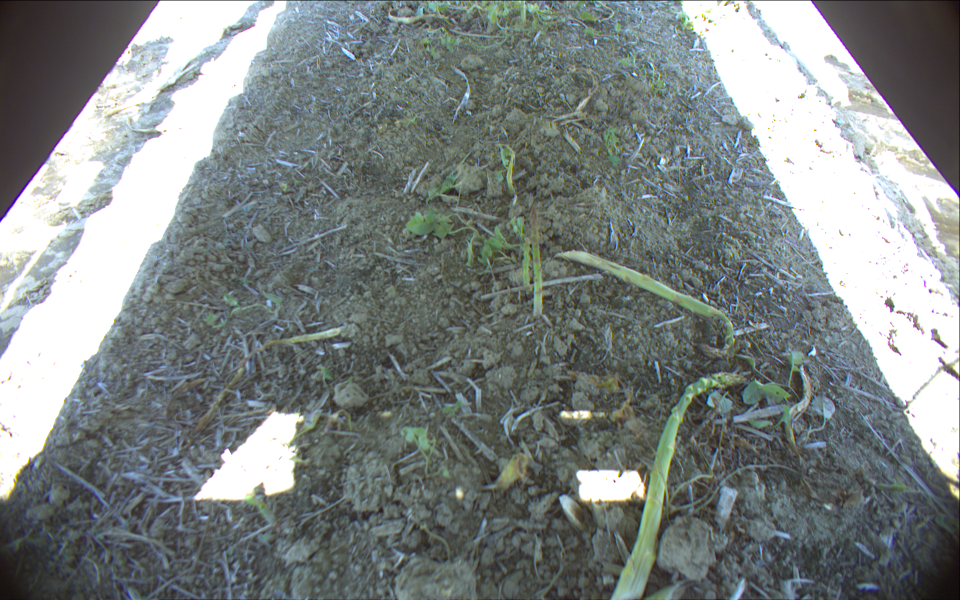aspa: (525, 200, 545, 319), (521, 220, 531, 292)
